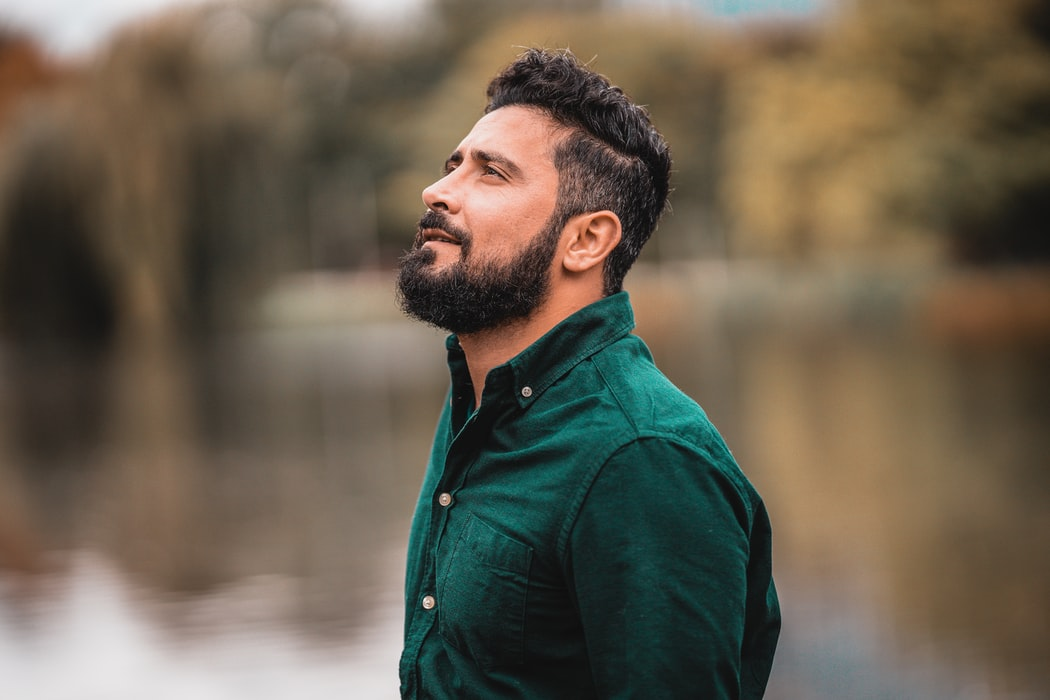beard: (385, 210, 564, 343)
